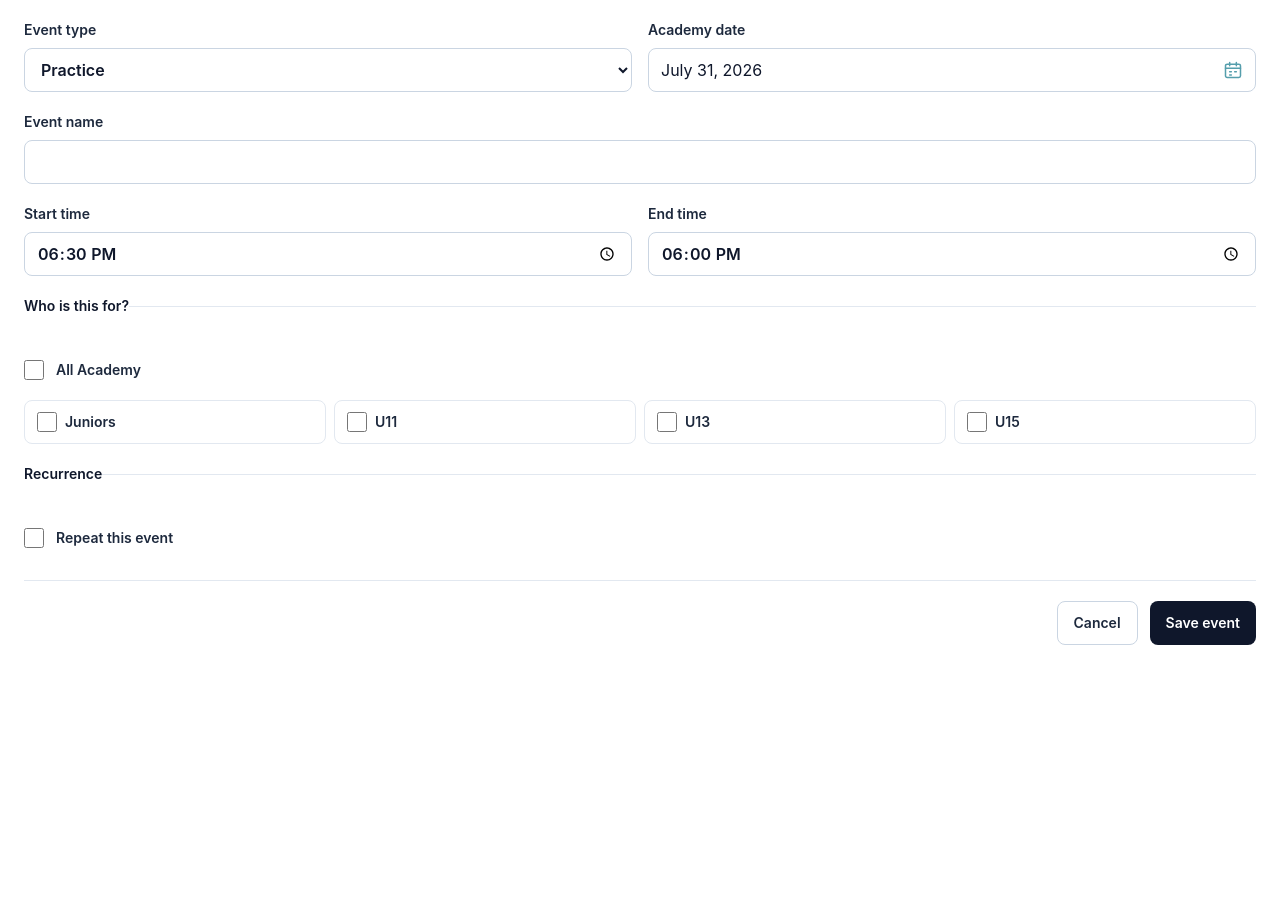
Test: EventForm › validates required names, same-day times, past dates, and scope
Click the button "Save event" at (1203, 623), box [1150,601,1256,645]
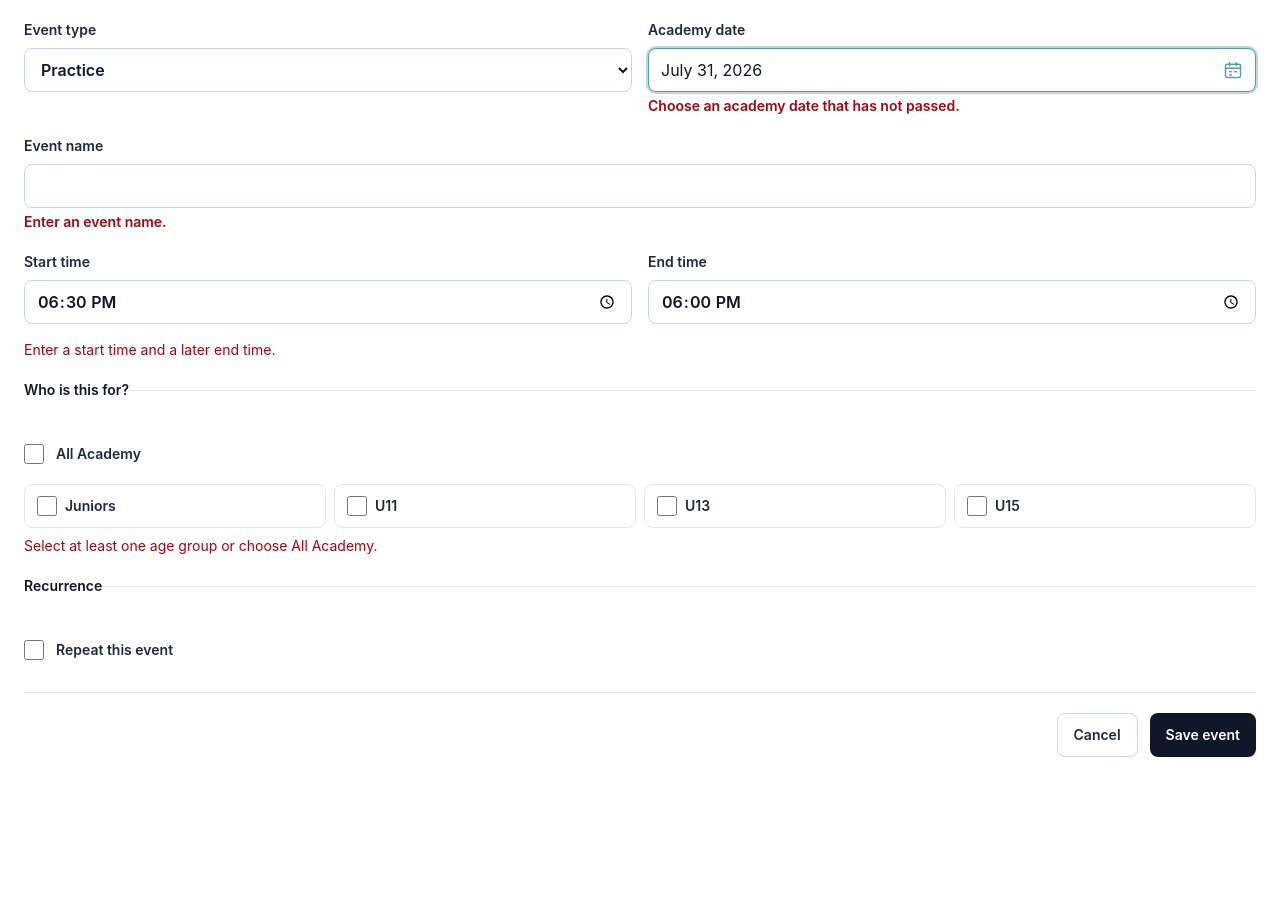
Check: the text "Enter an event name." is shown, box [24,213,167,230]
Check: the text "Choose an academy date that has not passed." is shown, box [648,97,960,114]
Check: the text "Enter a start time and a later end time." is shown, box [24,341,275,358]
